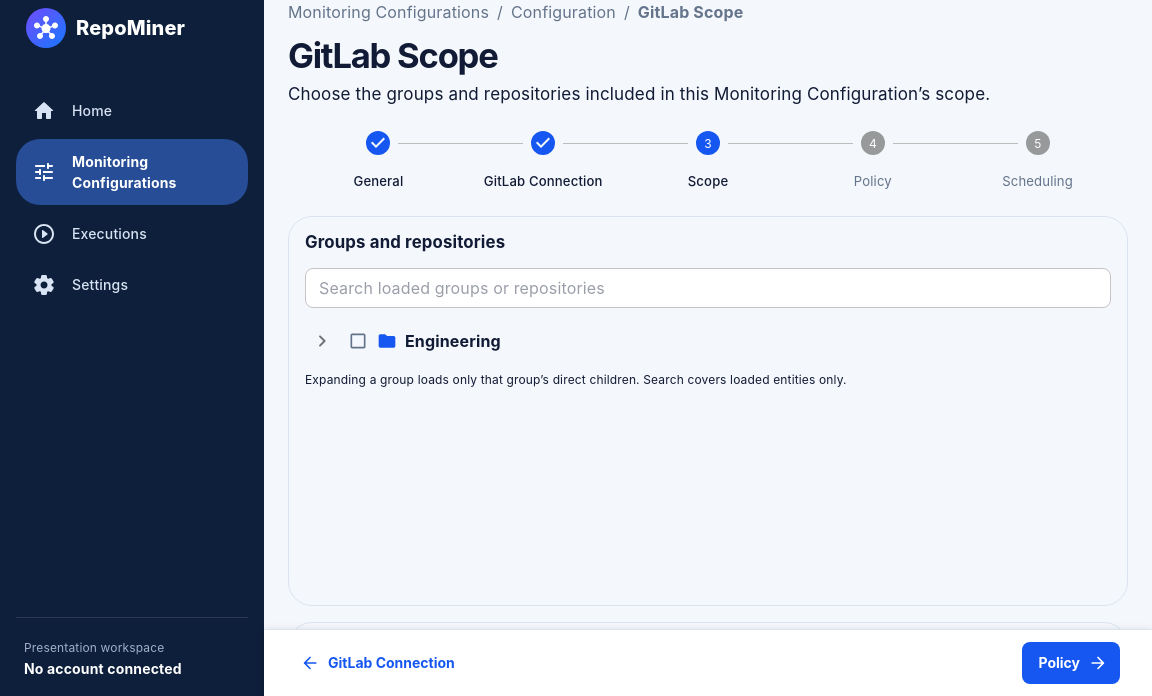
Test: selects an unloaded group as a dynamic rule without fetching its descendants
What coordinates should you click on to do the following:
click the checkbox named "Select Engineering"
I would click on:
 (358, 341)
Its box is [348,331,368,351].
(page scrolled)
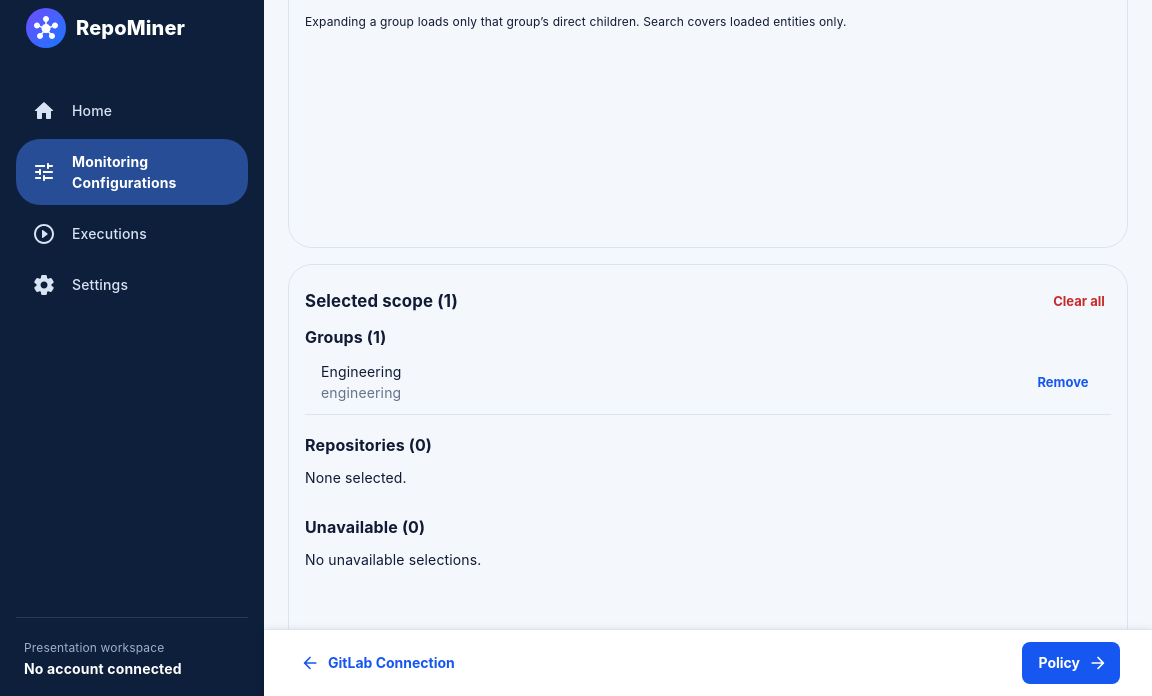
Check: the heading "Groups (1)" is shown, box [305,327,386,347]
